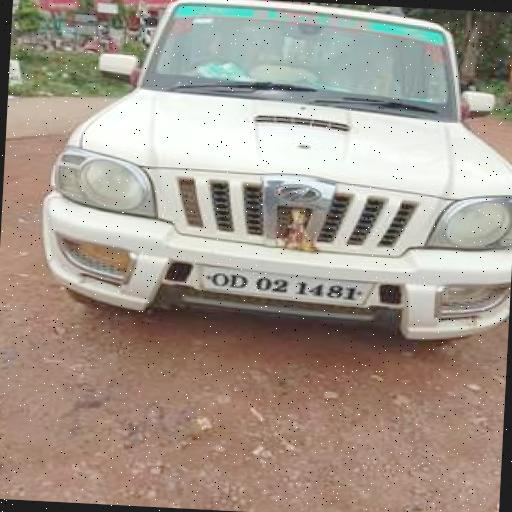license_plate`: (195, 263, 372, 308)
